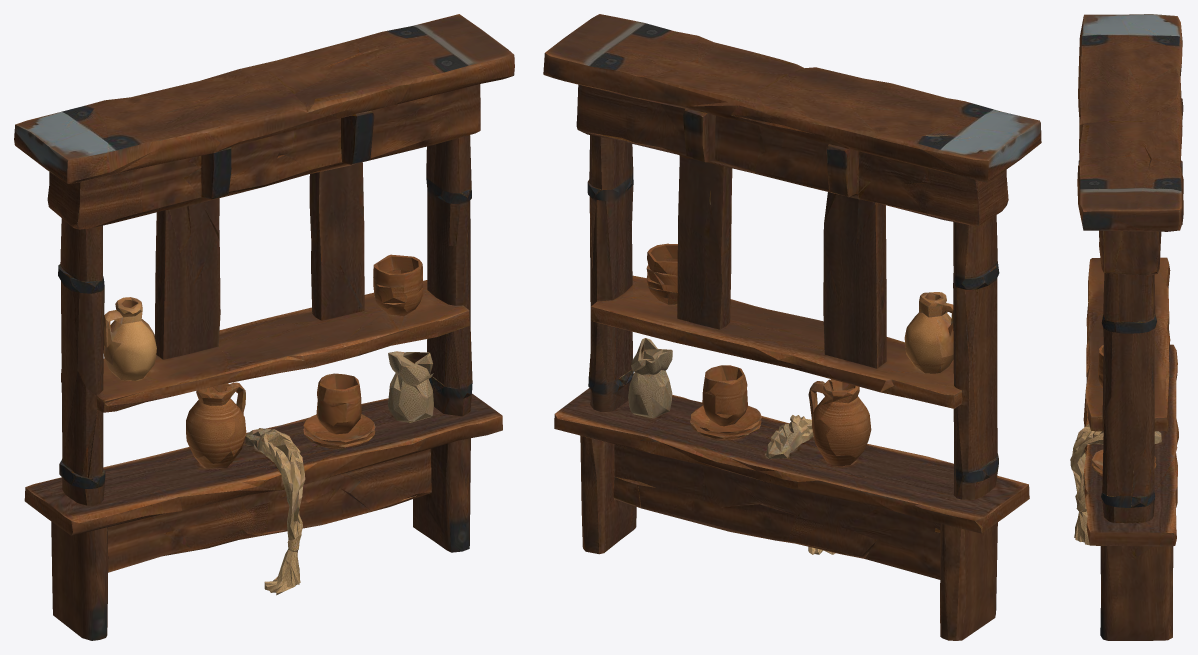
Rendered from shelf.glb.
The picture shows the model from 3 angles, left to right: view 1: azimuth 30°, elevation 25°; view 2: azimuth 150°, elevation 25°; view 3: azimuth 270°, elevation 25°; orthographic projection. The views are drawn at different scales.
Parts seen in each view (by area): view 1: shelf; view 2: shelf; view 3: shelf.
Boxes of the visible parts, <box> form: shelf: <box>14,14,514,640</box>; shelf: <box>543,14,1041,640</box>; shelf: <box>1070,14,1183,640</box>.
Bounding box in the file's own units: 1.56 × 1.65 × 0.38.
1 material, 1 textured.
